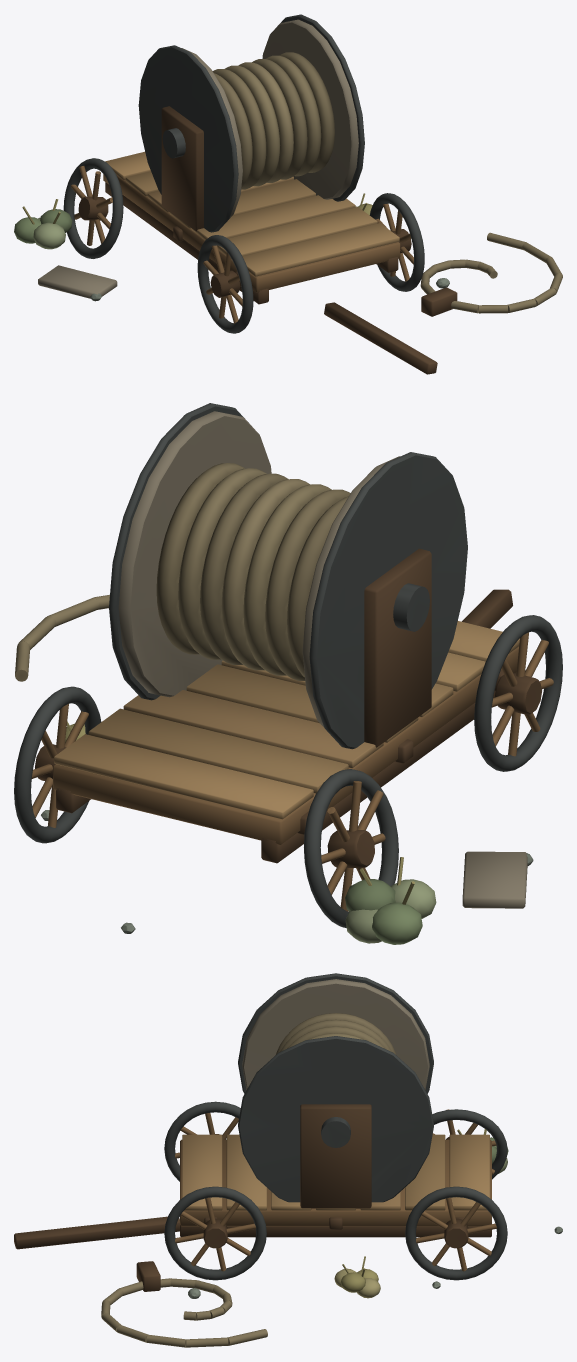
The model's file is rope_drum_wagon_b.glb.
3 views of the same model, one above another, from view 1: azimuth 30°, elevation 25°; view 2: azimuth 150°, elevation 25°; view 3: azimuth 270°, elevation 25° (orthographic). The views are drawn at different scales.
Parts seen in each view (by area): view 1: Surface; view 2: Surface; view 3: Surface.
Boxes of the visible parts, <box> form: Surface: <box>14,14,562,374</box>; Surface: <box>14,403,562,944</box>; Surface: <box>14,973,562,1347</box>.
Size of the model in its own units: 10.74 by 5.91 by 12.31.
